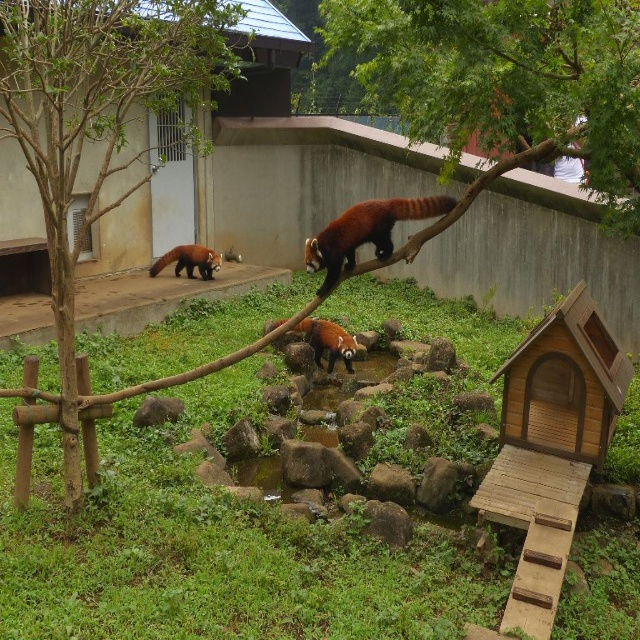Red panda: (302, 197, 457, 298), (151, 242, 222, 279)
